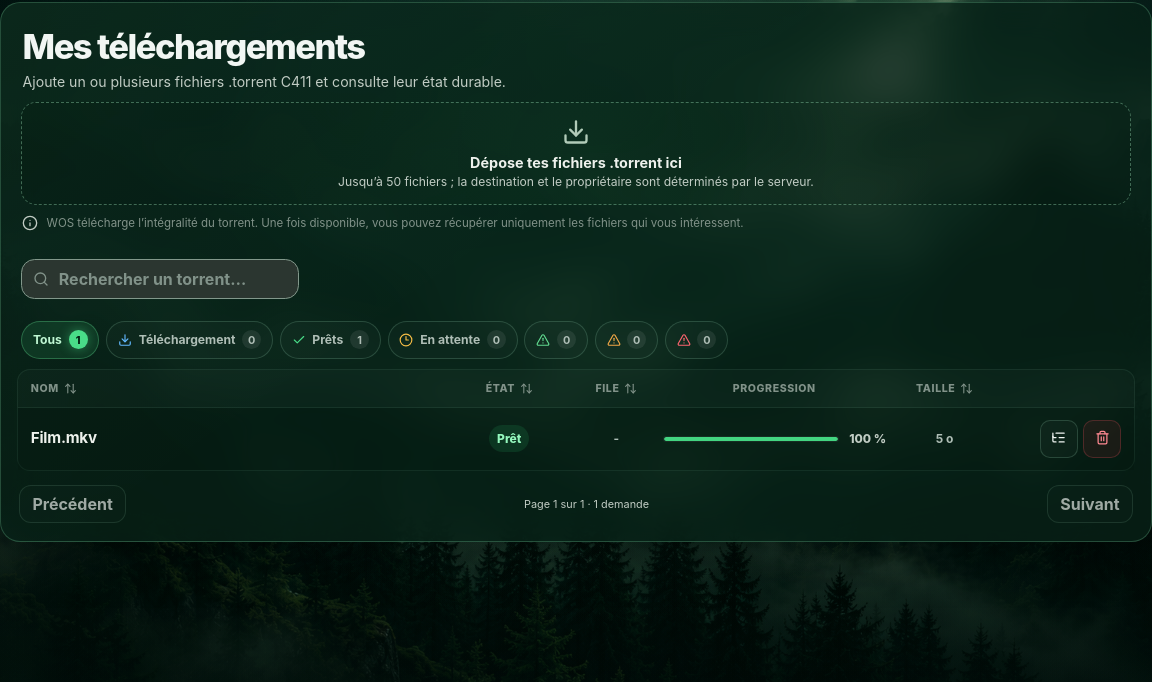
Test: UserDownloadsPage › télécharge récursivement un manifeste READY via le sélecteur de dossier
Click the button named "Afficher les détails de Film.mkv" at (1059, 438), box [1040, 420, 1078, 458]
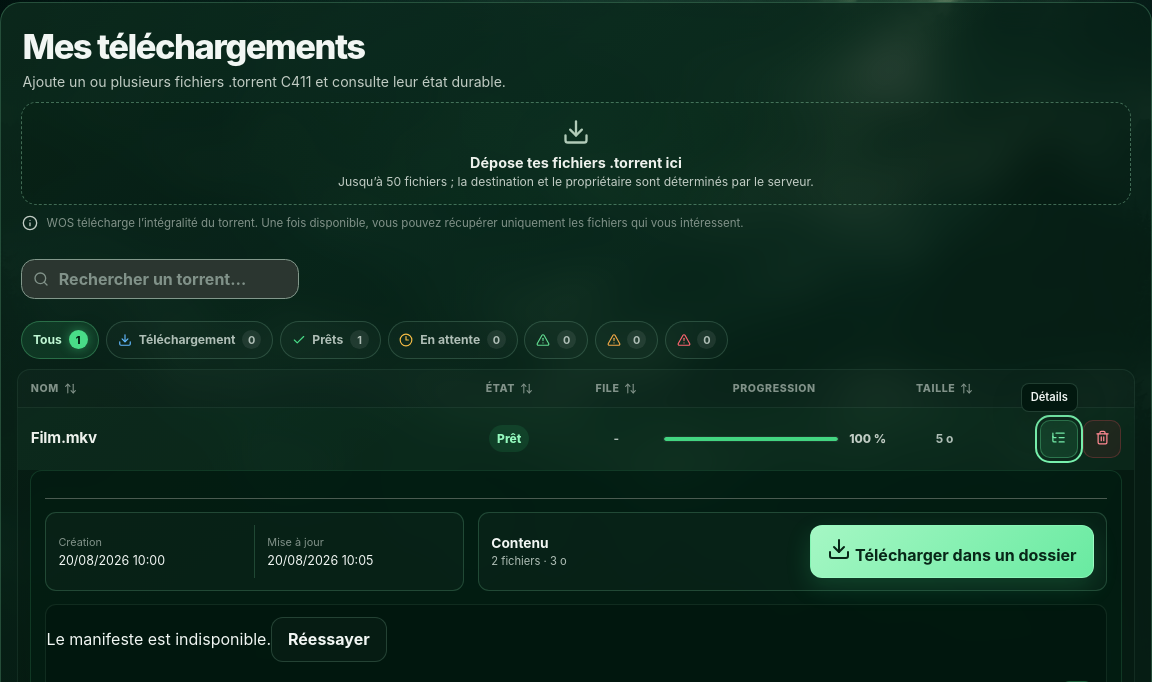
Click the button "Télécharger dans un dossier" at (952, 552), box [810, 525, 1094, 578]
(page scrolled)
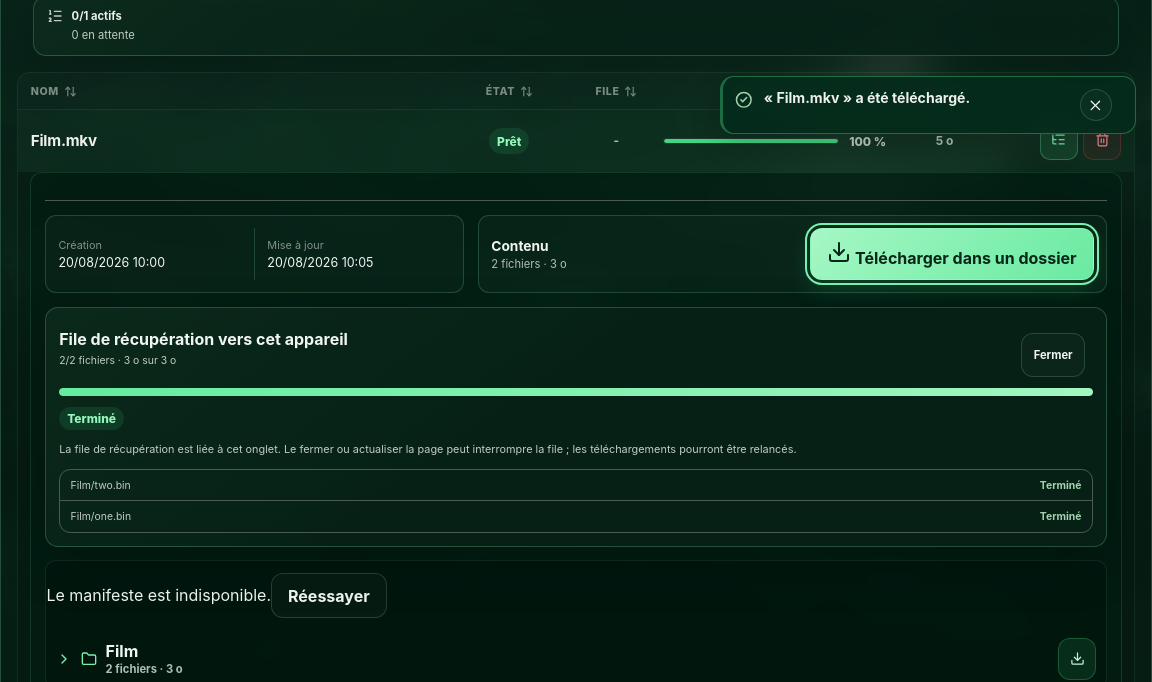
expect the text "« Film.mkv » a été téléchargé." is shown: met, box [764, 89, 970, 106]
expect the text "2/2 fichiers · 3 o sur 3 o" is shown: met, box [59, 354, 176, 367]
